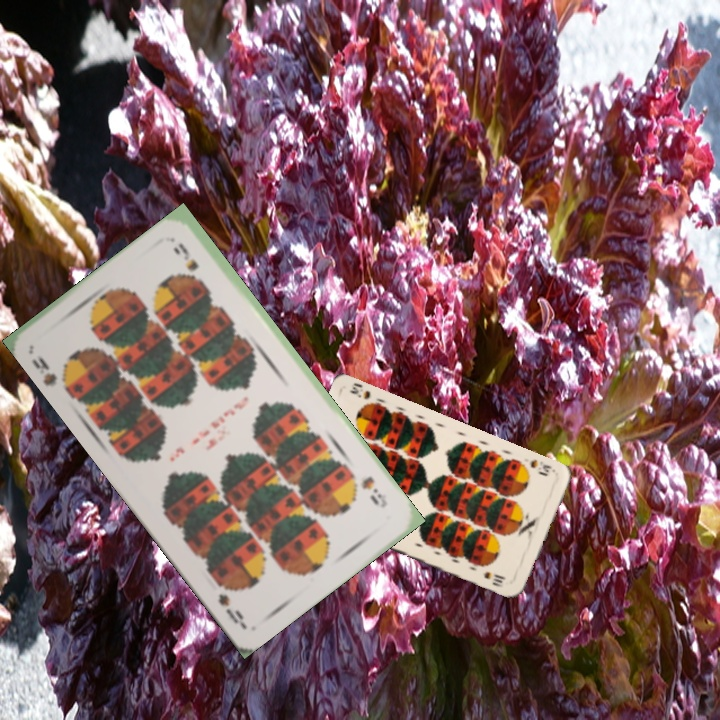S10: (526, 455, 554, 479)
S9: (27, 351, 77, 395), (357, 472, 390, 511)
